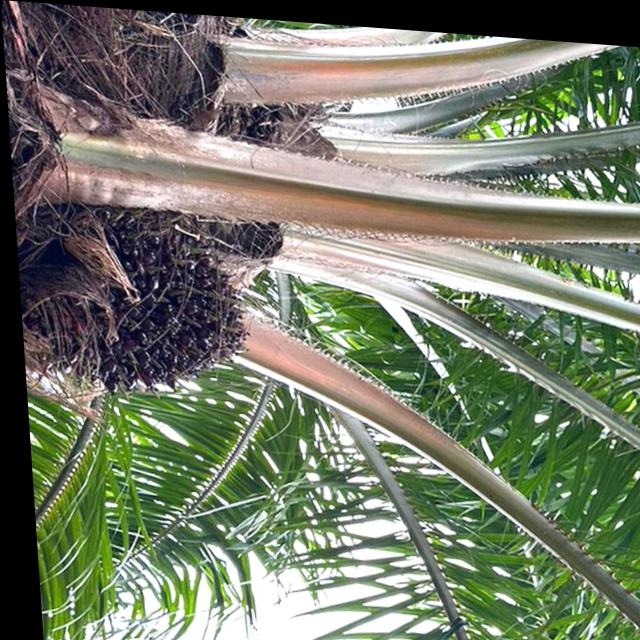almost: (10, 193, 263, 413)
